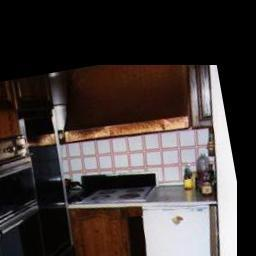Electrodomestico: (25, 116, 72, 252), (0, 139, 46, 256), (141, 197, 218, 256), (70, 174, 153, 216)
